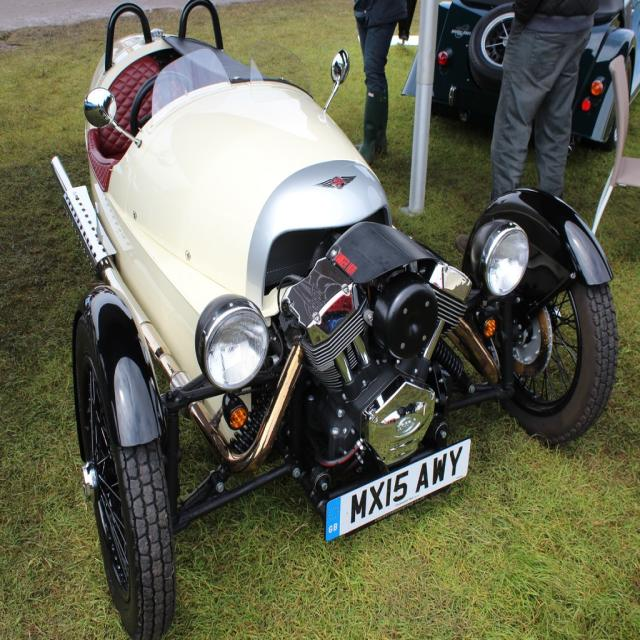car: (50, 0, 619, 638)
